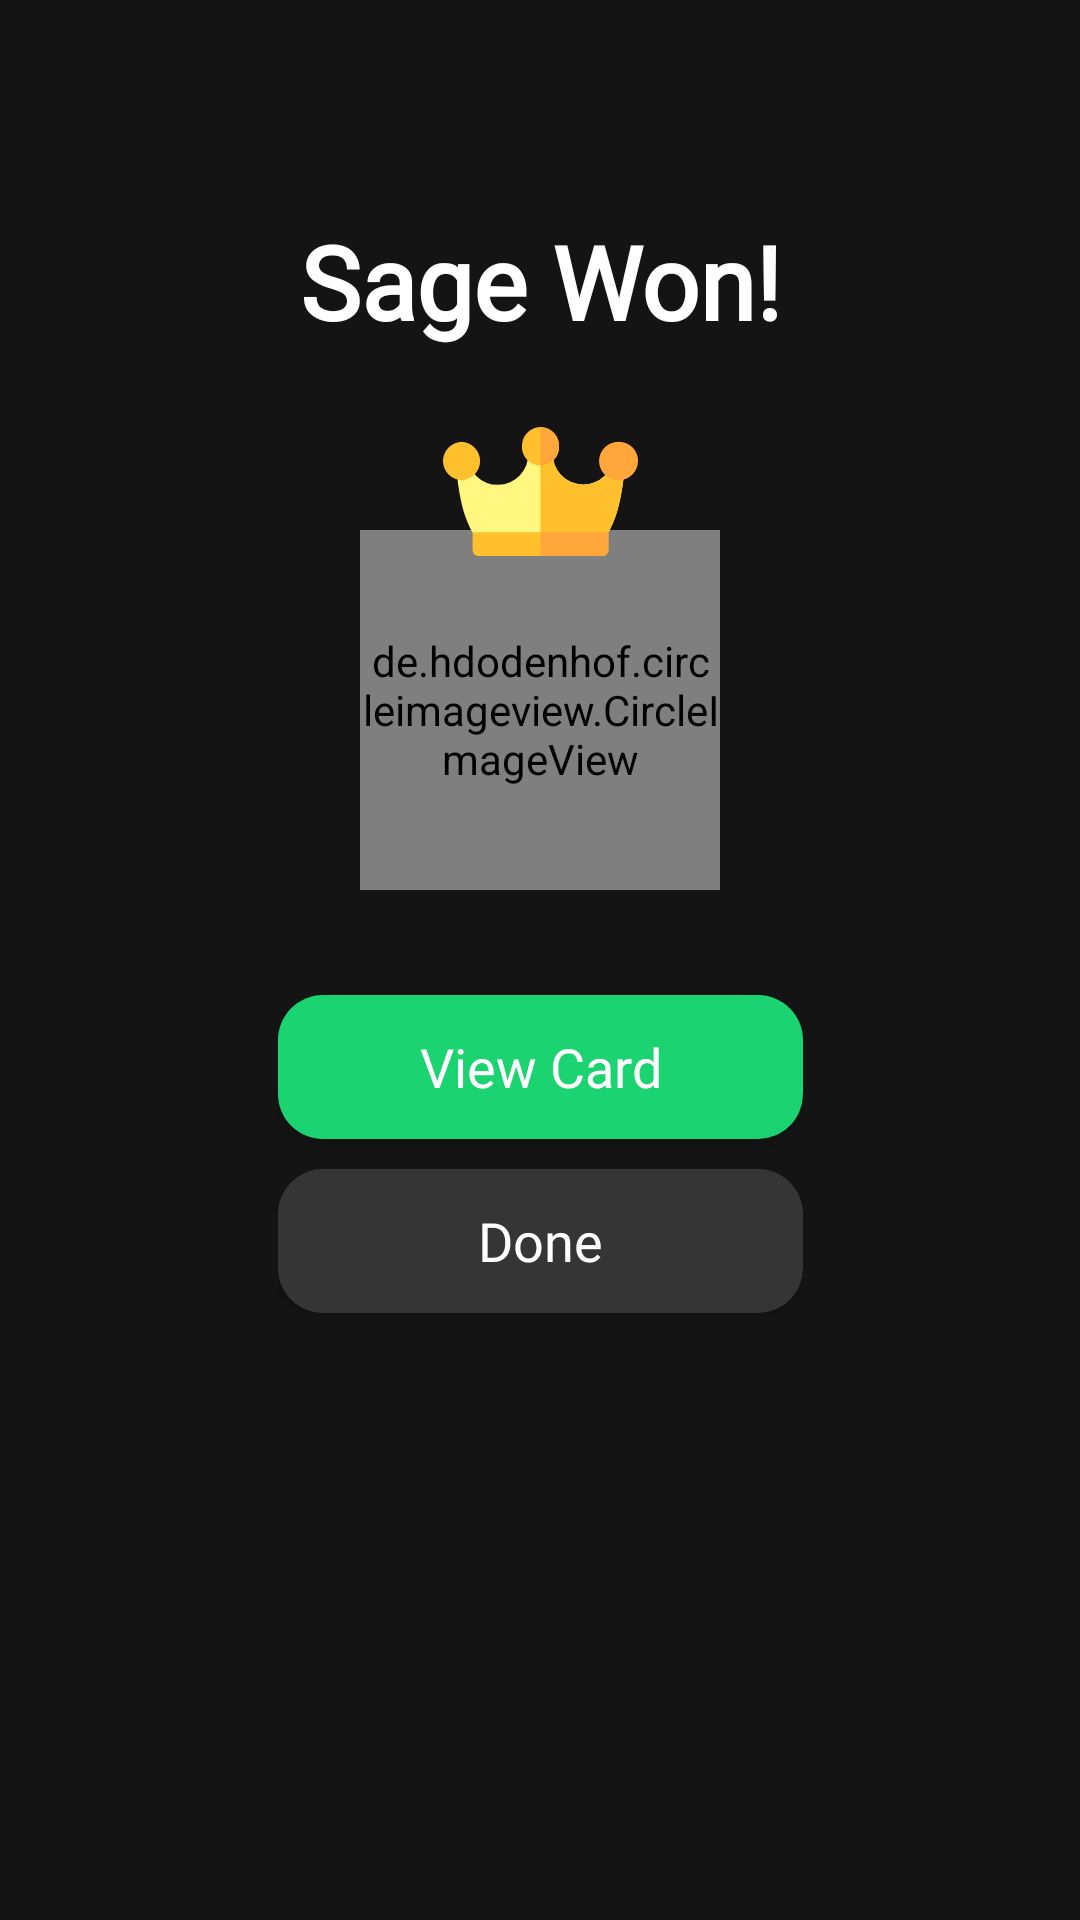

Where to tap for icons on this 1080×1920 app screen, as [x,y]:
crown: [540,491]
